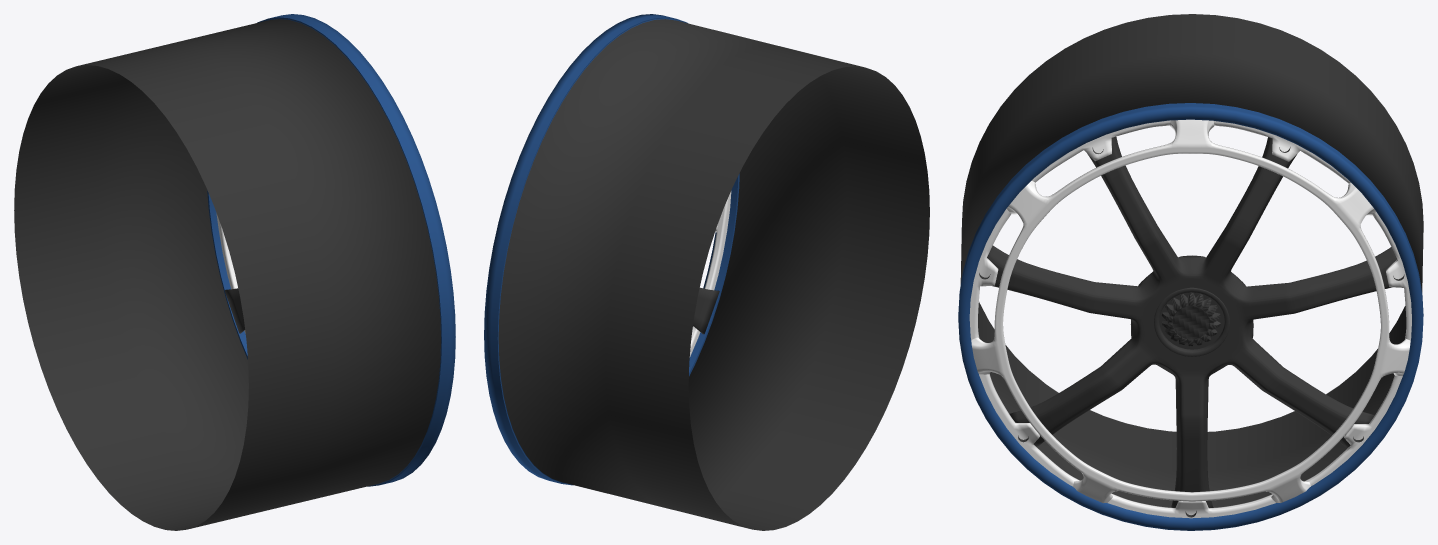
File: rim5.glb
3 views of the same model, side by side, from view 1: azimuth 30°, elevation 25°; view 2: azimuth 150°, elevation 25°; view 3: azimuth 270°, elevation 25° (orthographic). The views are drawn at different scales.
Visible parts, largest first — view 1: rim5; view 2: rim5; view 3: rim5.
Part boxes in pixels (bbox=[...]): rim5: bbox=[14, 14, 455, 530]; rim5: bbox=[484, 14, 929, 530]; rim5: bbox=[958, 14, 1423, 530].
Size of the model in its own units: 1.05 by 1.99 by 1.99.
Materials: 4 (1 with a texture image).
